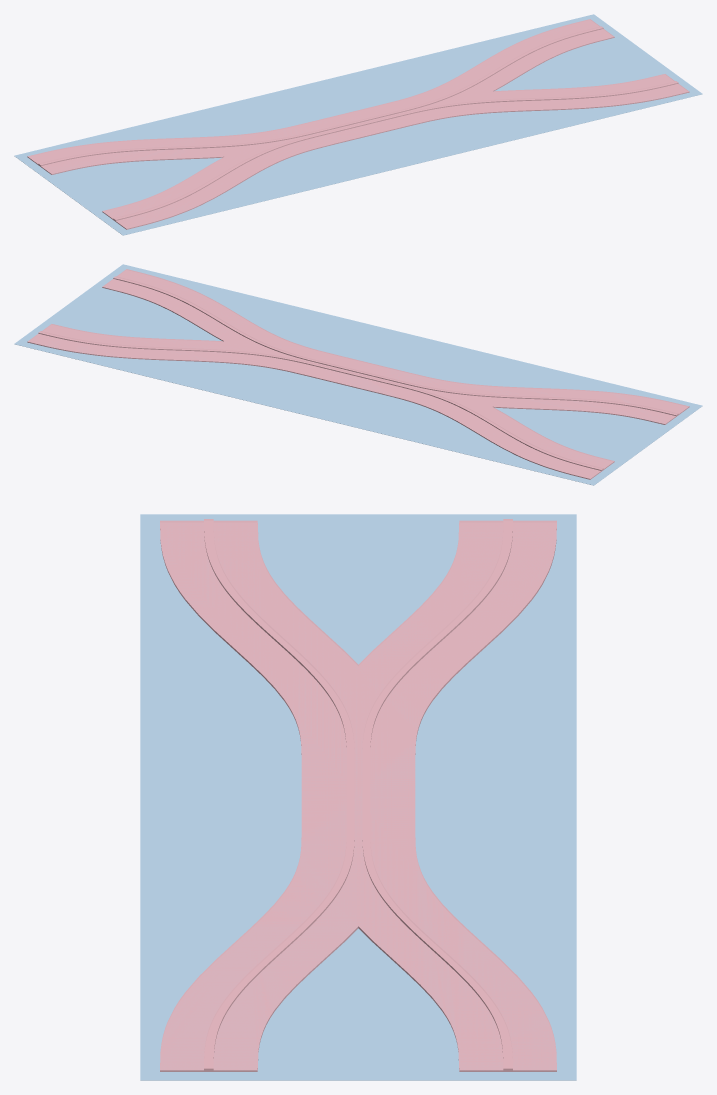
Rendered from lxt-dc.glb.
The picture shows the model from 3 angles, top to bottom: view 1: azimuth 30°, elevation 25°; view 2: azimuth 150°, elevation 25°; view 3: azimuth 270°, elevation 25°; orthographic projection. The views are drawn at different scales.
Parts seen in each view (by area): view 1: box_top, slab_0, ridge_1, ridge_0; view 2: box_top, slab_0, ridge_0, ridge_1; view 3: box_top, slab_0, ridge_0, ridge_1.
Part boxes in pixels (x1,y1,x2,y2): box_top: [14, 14, 702, 235]; slab_0: [27, 19, 689, 229]; ridge_1: [38, 26, 603, 165]; ridge_0: [113, 81, 678, 220]; box_top: [14, 264, 702, 485]; slab_0: [27, 269, 689, 479]; ridge_0: [113, 276, 678, 415]; ridge_1: [38, 331, 603, 470]; box_top: [140, 514, 576, 1080]; slab_0: [160, 520, 556, 1071]; ridge_0: [204, 519, 354, 1070]; ridge_1: [362, 519, 512, 1070].
Size of the model in its own units: 137 by 0.44 by 44.6.
